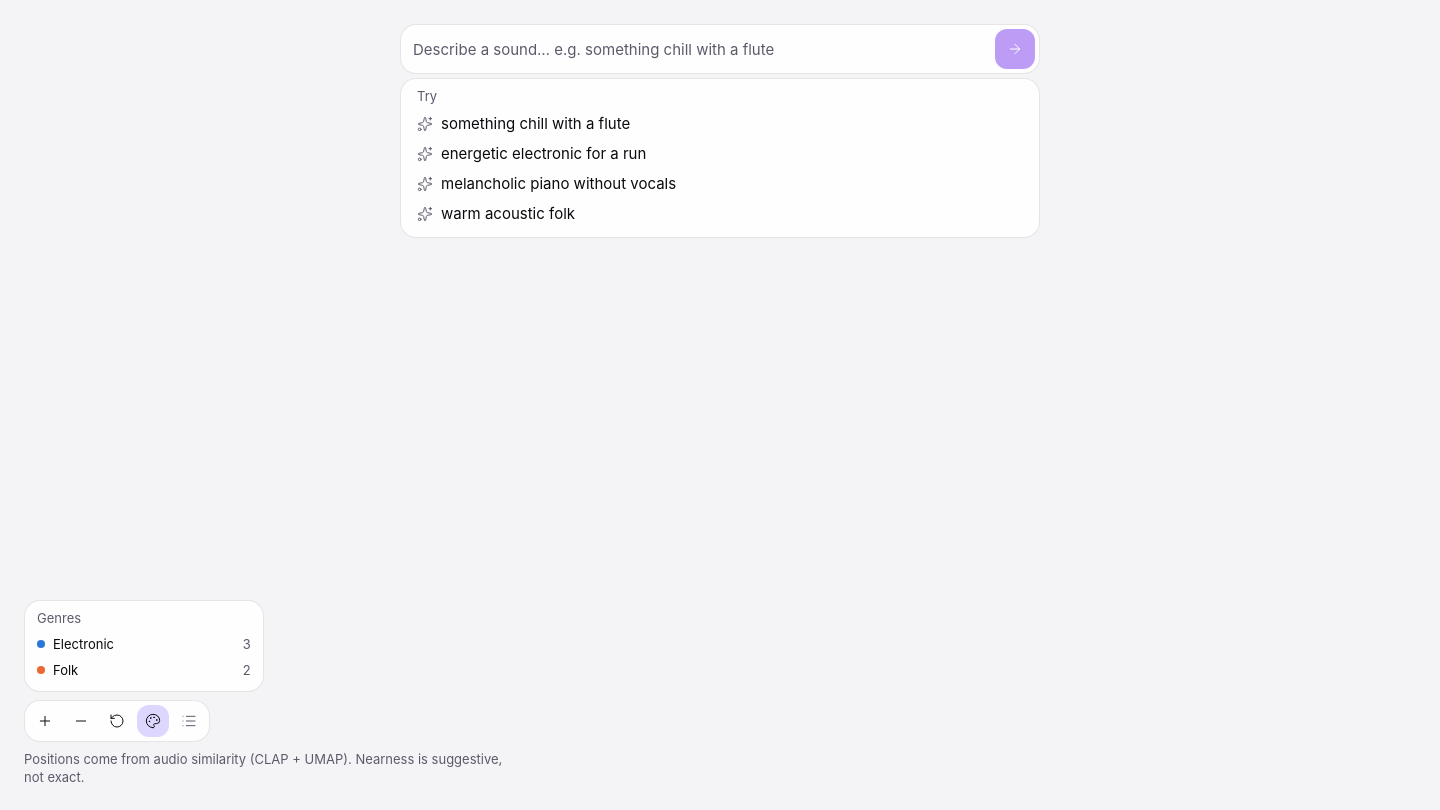
map container › the legend is open on the idle map and collapses beside results, unless the user chose
Expected: the element named "Genre legend" is shown, x1=24 y1=600 x2=264 y2=692
Type "chill flute" into the field named "Search by describing a sound" at point(700, 49), box x1=413 y1=29 x2=987 y2=69
Then press Enter
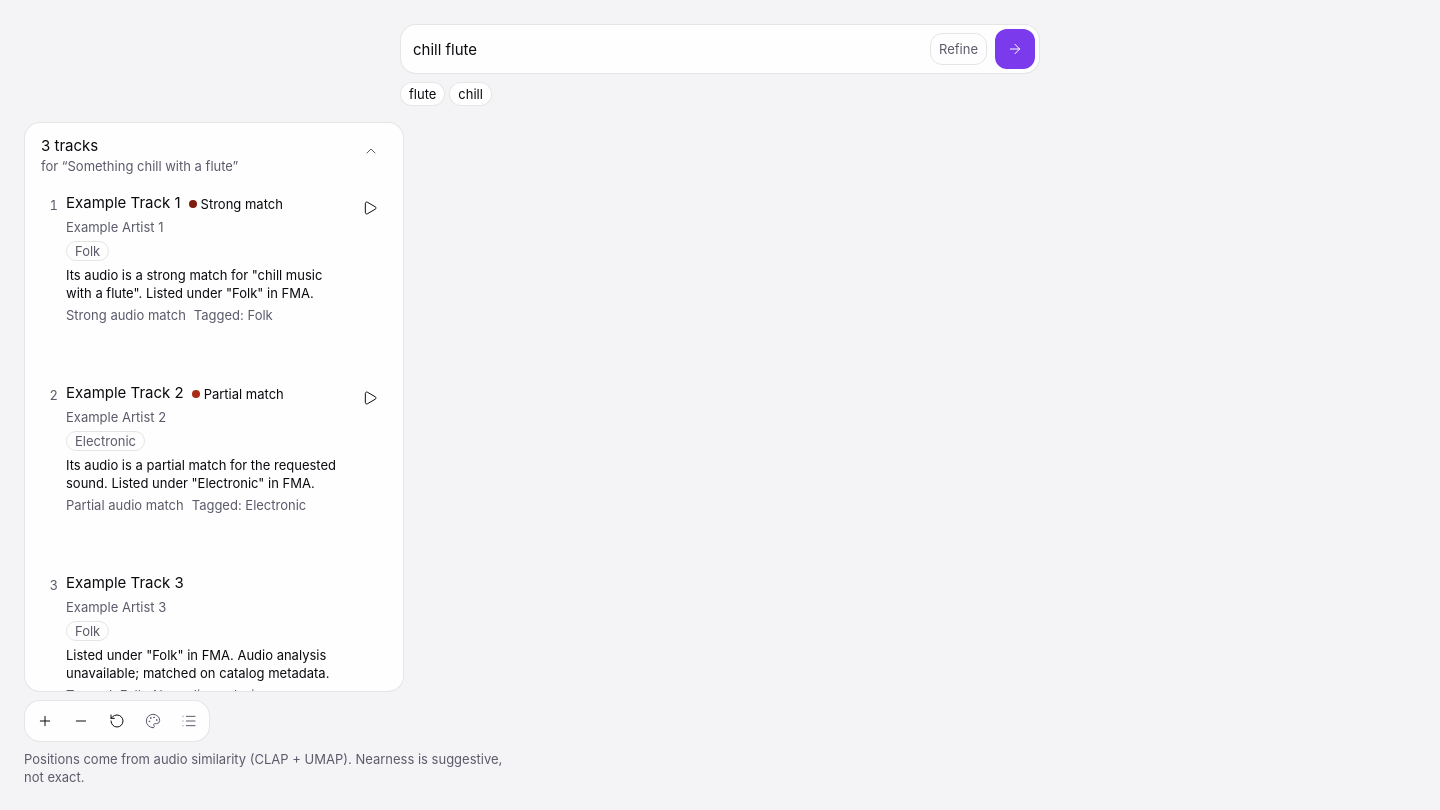
Click the button named "Genre legend" at point(153, 721), box x1=137 y1=705 x2=169 y2=737
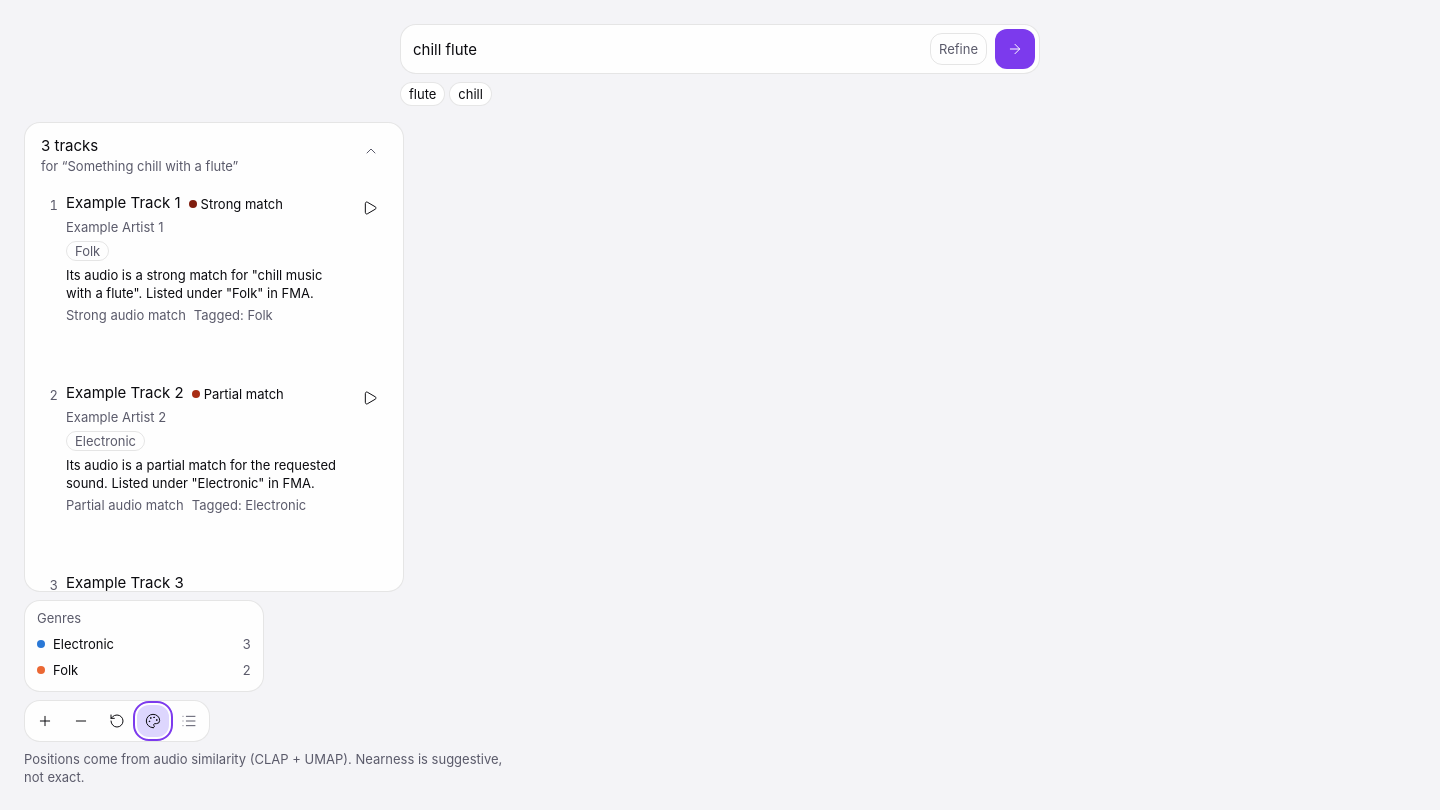
Expected: the element named "Genre legend" is shown, x1=24 y1=600 x2=264 y2=692
